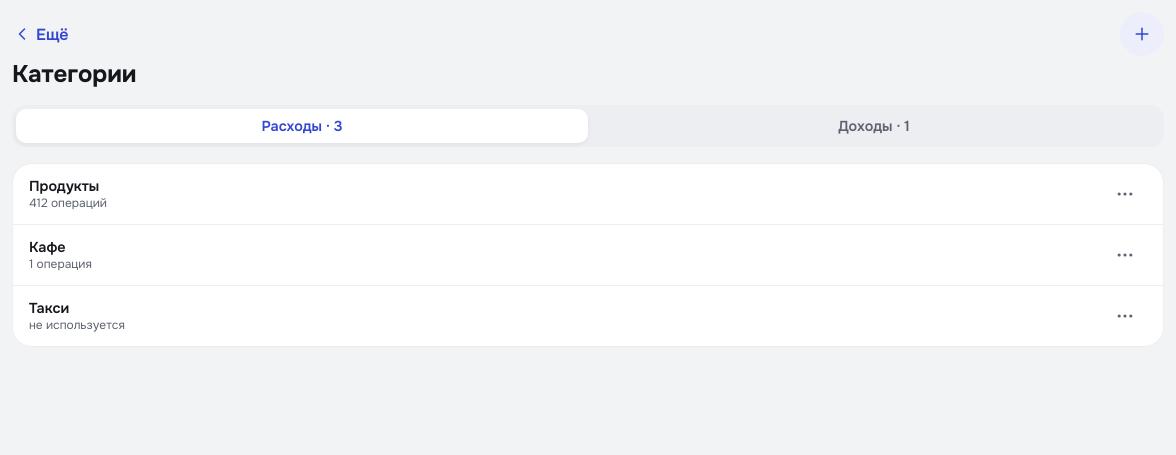
it: CategoriesScreen › rename › keeps only one row in edit mode at a time
The image size is (1176, 455).
What coordinates should you click on to do the following:
click the button named "Действия: Продукты"
I would click on:
 (1125, 194)
Its box is x1=1103 y1=172 x2=1147 y2=216.
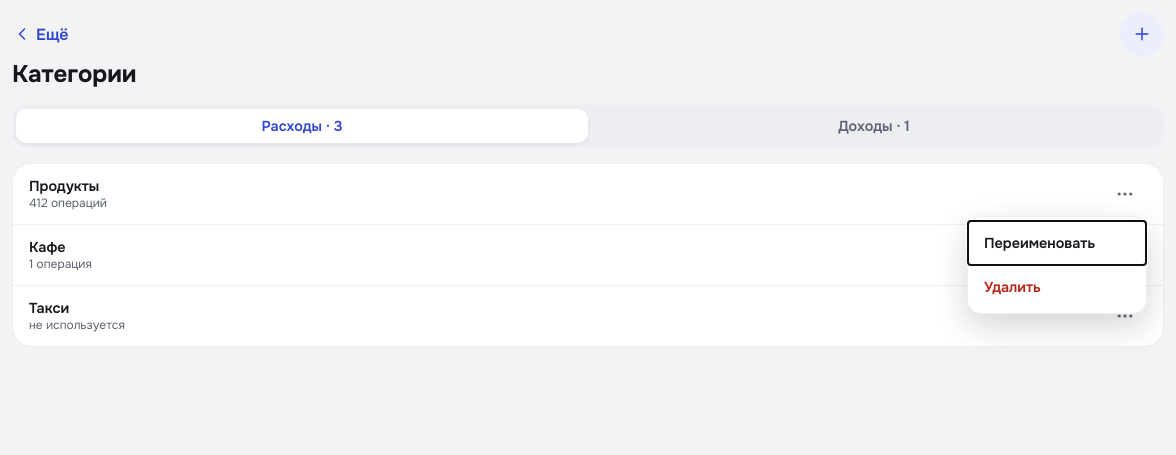
What coordinates should you click on to do the following:
click the menu item "Переименовать"
I would click on:
 (1057, 243)
Its box is x1=968 y1=221 x2=1146 y2=265.
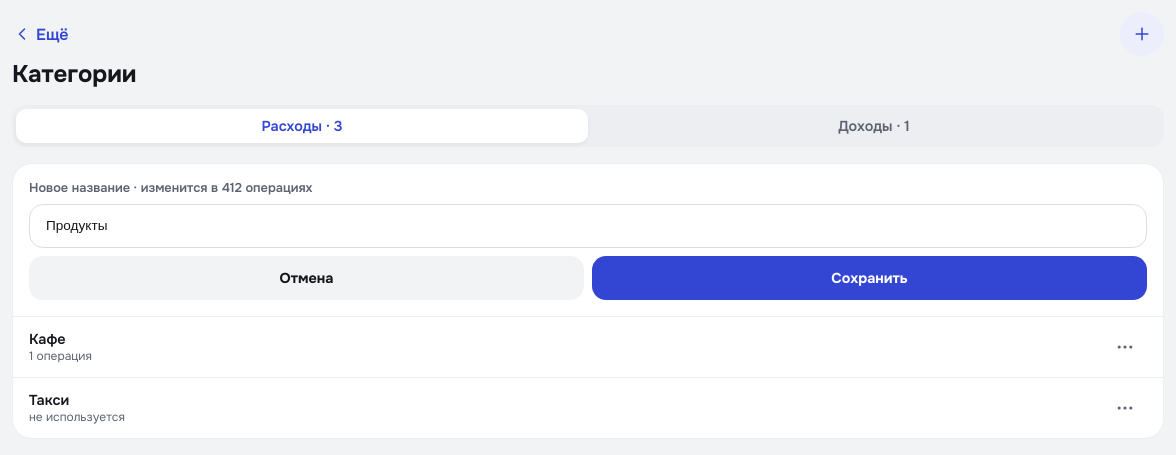
What coordinates should you click on to do the following:
click the button named "Действия: Кафе"
I would click on:
 (1125, 347)
Its box is x1=1103 y1=325 x2=1147 y2=369.
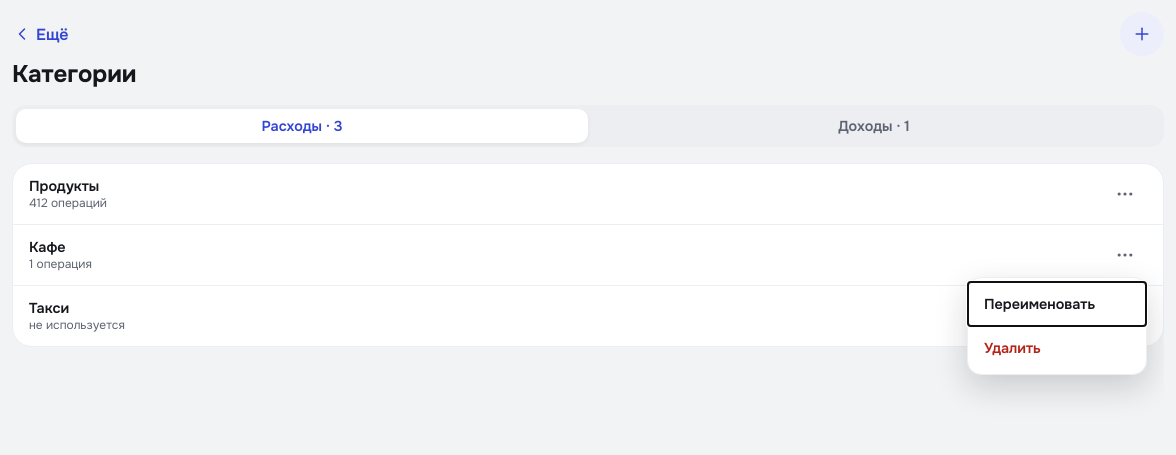
Now the field is gone
Now the number of menus is 1, box x1=967 y1=277 x2=1147 y2=375
